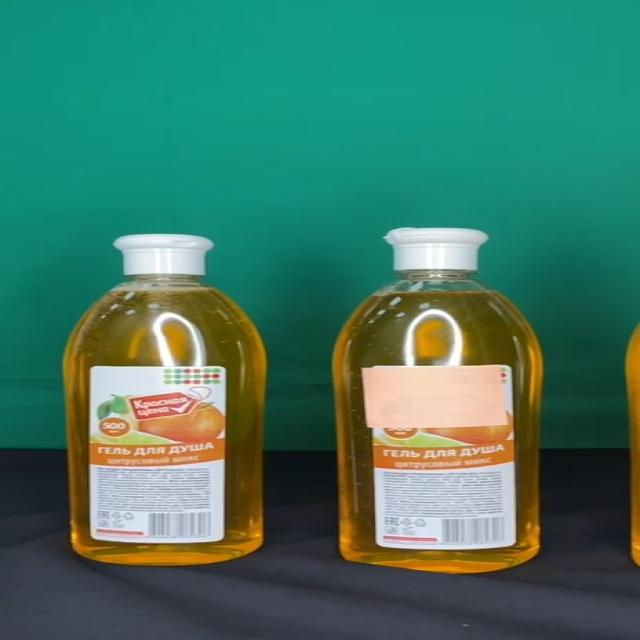Bottle: (333, 226, 545, 577), (66, 232, 266, 565)
Cap: (388, 226, 490, 271), (117, 233, 215, 278)
